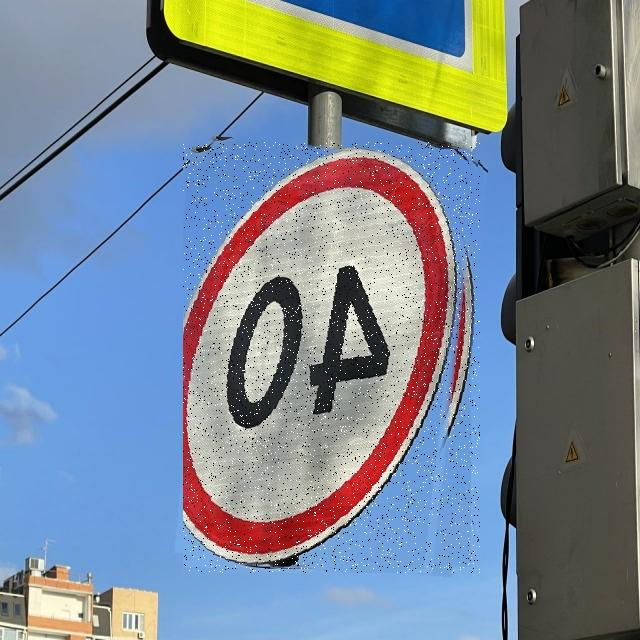speed limit 40: (183, 142, 480, 573)
